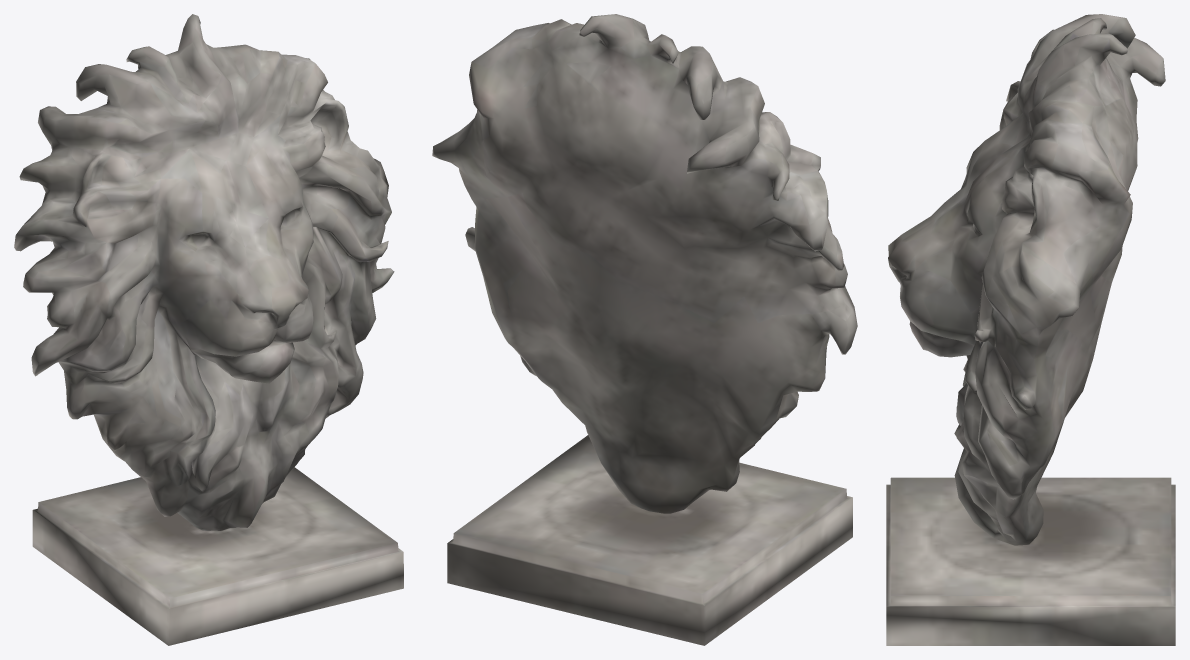
Rendered from lion-head.glb.
The picture shows the model from 3 angles, left to right: view 1: azimuth 30°, elevation 25°; view 2: azimuth 150°, elevation 25°; view 3: azimuth 270°, elevation 25°; orthographic projection. The views are drawn at different scales.
Parts seen in each view (by area): view 1: low; view 2: low; view 3: low.
Boxes of the visible parts, x1,y1,x2,y2 form: low: (14,14,403,645); low: (432,14,857,645); low: (886,14,1175,645).
Size of the model in its own units: 0.3673 by 0.5005 by 0.2362.
1 material, 1 textured.
